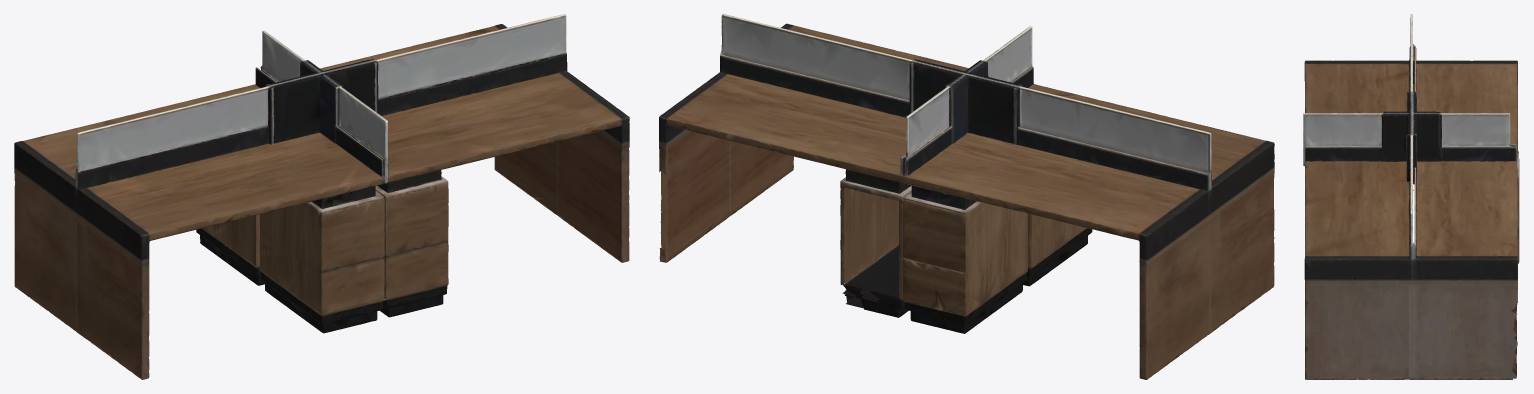
File: masa_optimized.glb
3 renders of one model, left to right at view 1: azimuth 30°, elevation 25°; view 2: azimuth 150°, elevation 25°; view 3: azimuth 270°, elevation 25°, orthographic. The views are drawn at different scales.
Visible parts, largest first — view 1: geometry_0; view 2: geometry_0; view 3: geometry_0.
Part boxes in pixels (bbox=[...]): geometry_0: bbox=[14, 14, 629, 379]; geometry_0: bbox=[659, 14, 1274, 379]; geometry_0: bbox=[1303, 14, 1519, 379].
Size of the model in its own units: 1 by 0.3921 by 0.4594.
1 material, 1 textured.
